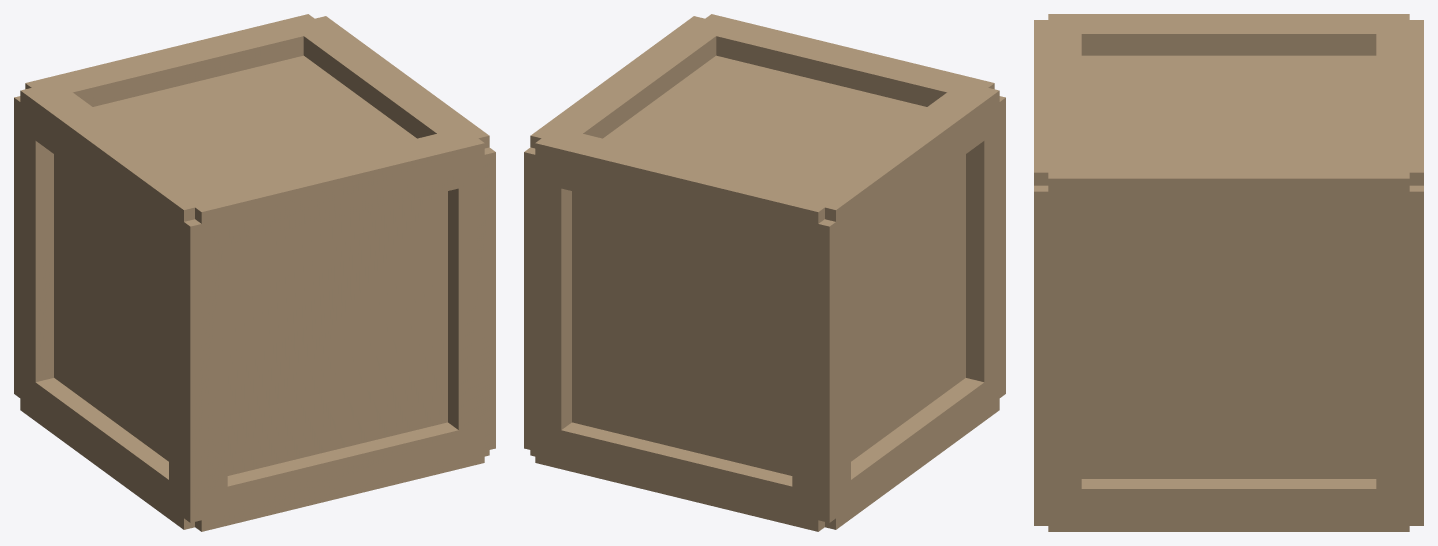
The model's file is crate.gltf.
3 views of the same model, side by side, from view 1: azimuth 30°, elevation 25°; view 2: azimuth 150°, elevation 25°; view 3: azimuth 270°, elevation 25° (orthographic). The views are drawn at different scales.
Size of the model in its own units: 0.82 by 0.82 by 0.82.
